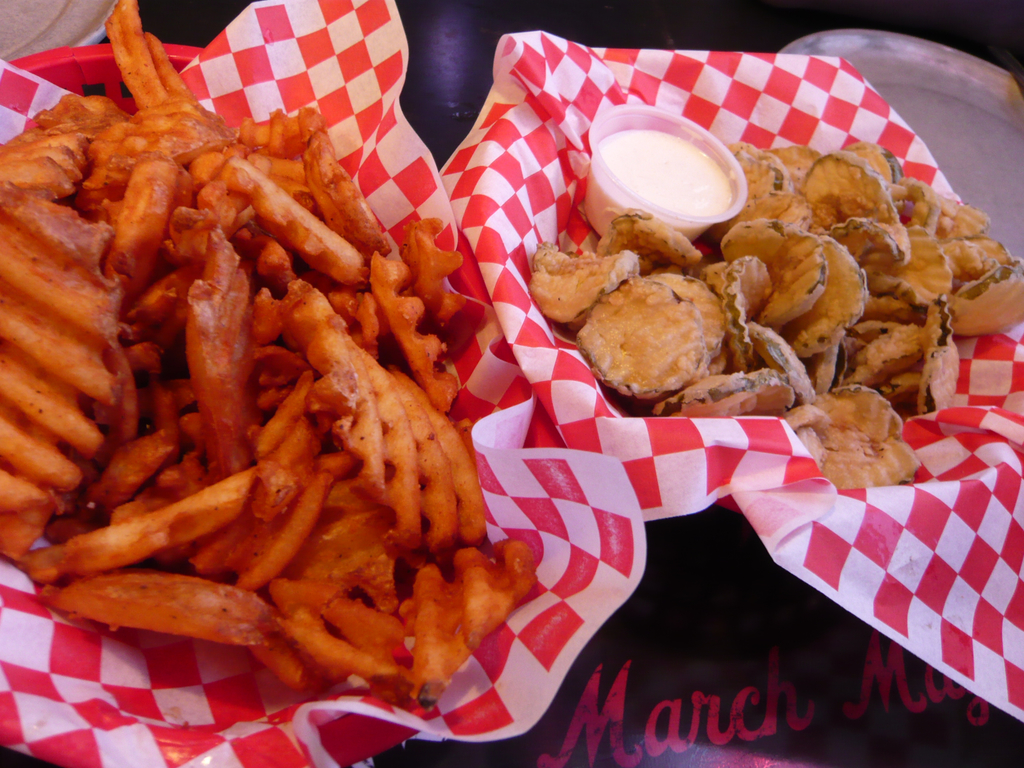French fries: (0, 0, 520, 671)
